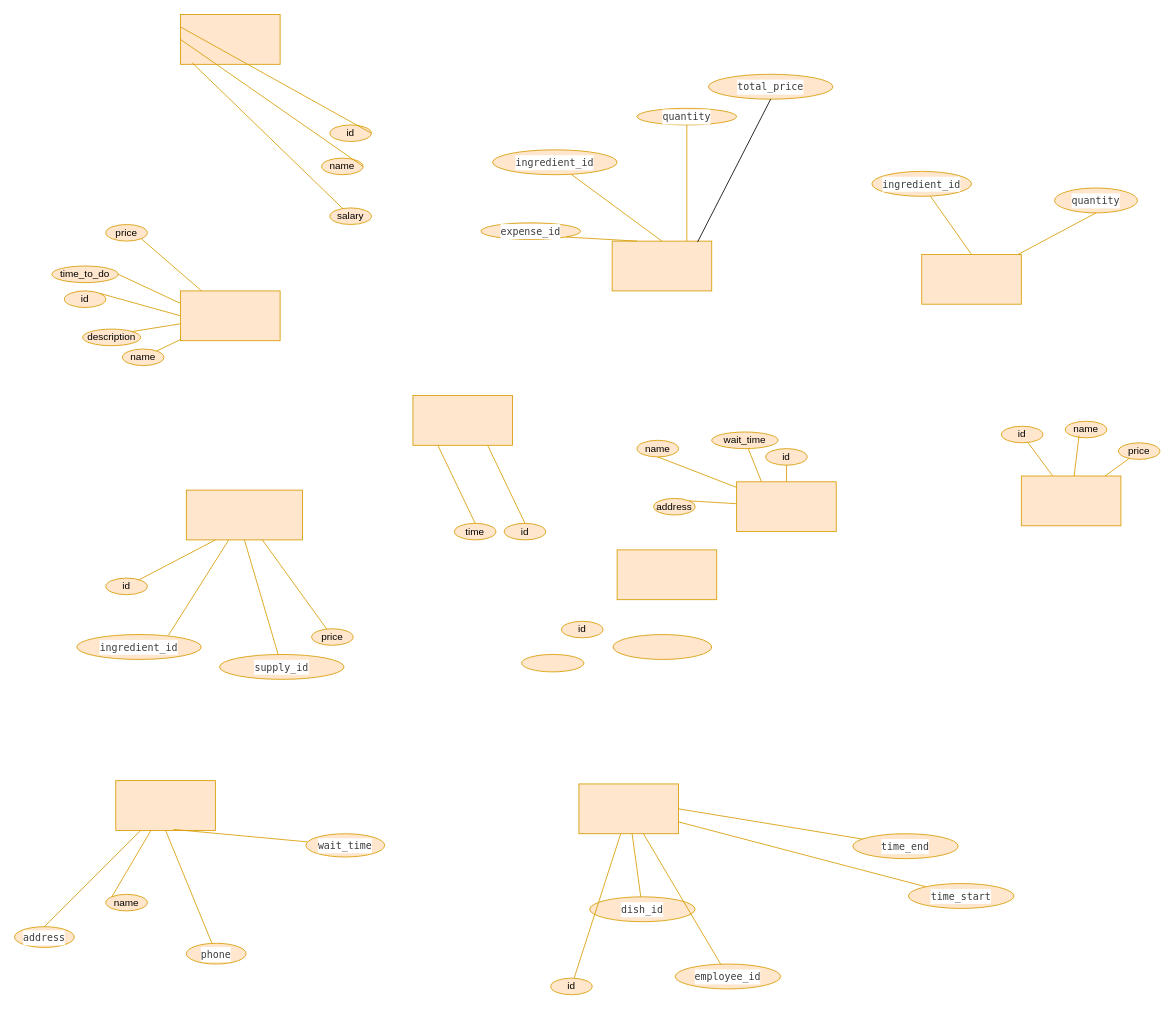
This 1174x1016 diagram has some shape labels left out. Each missing label, with the centre of its shape:
"Customer" belongs at (x=165, y=805).
"customer_id" belongs at (x=662, y=646).
"Dish" belongs at (x=230, y=315).
"Employee" belongs at (x=230, y=39).
"expense" belongs at (x=462, y=420).
"expense_list" belongs at (x=661, y=265).
"Ingredient" belongs at (x=1070, y=500).
"Inventory" belongs at (x=971, y=279).
"Order" belongs at (x=666, y=574).
"status" belongs at (x=552, y=663).
"supply" belongs at (x=786, y=506).
"supply_ingredient" belongs at (x=244, y=514).
"Work" belongs at (x=628, y=808).
